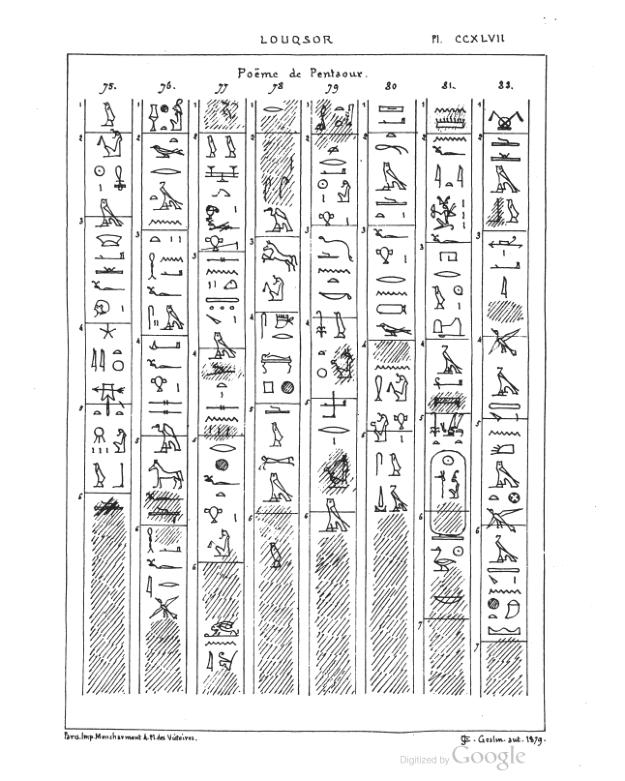circle: (427, 448, 468, 542)
